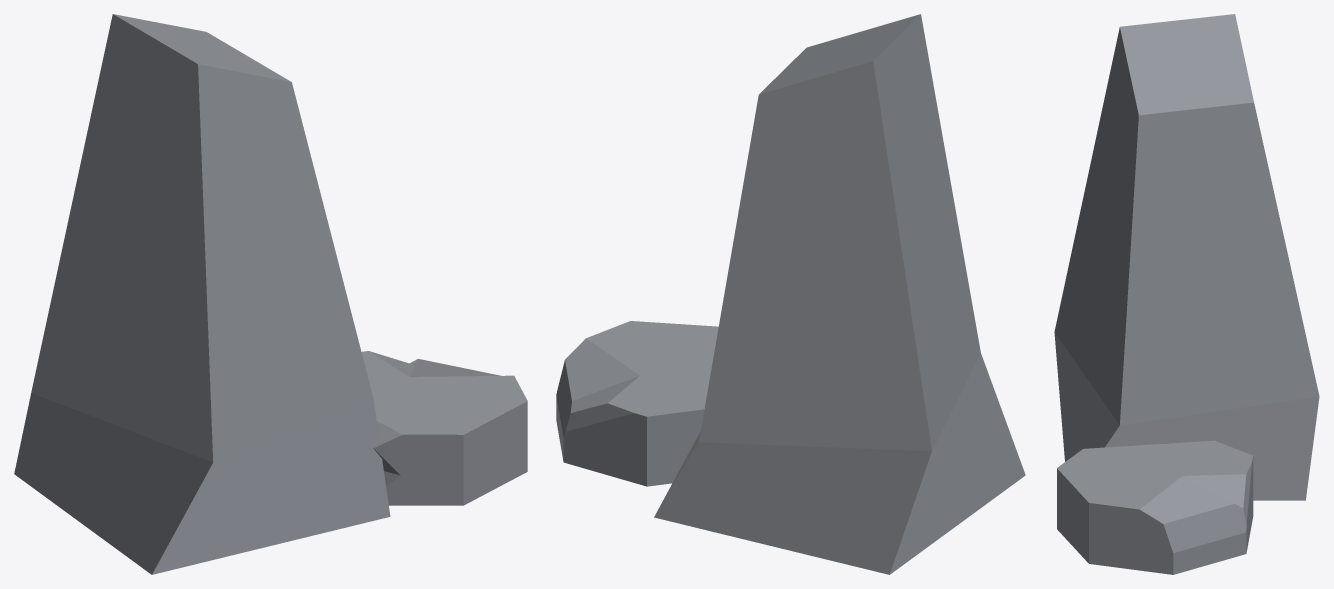
Rendered from Rock_v01.fbx.
3 renders of one model, left to right at view 1: azimuth 30°, elevation 25°; view 2: azimuth 150°, elevation 25°; view 3: azimuth 270°, elevation 25°, orthographic. The views are drawn at different scales.
Parts seen in each view (by area): view 1: Rock_v01; view 2: Rock_v01; view 3: Rock_v01.
Part boxes in pixels (<box>): Rock_v01: <box>14,14,527,574</box>; Rock_v01: <box>556,14,1025,574</box>; Rock_v01: <box>1054,14,1319,574</box>.
Bounding box in the file's own units: 34.47 × 36.73 × 21.48.
1 material, 1 textured.
